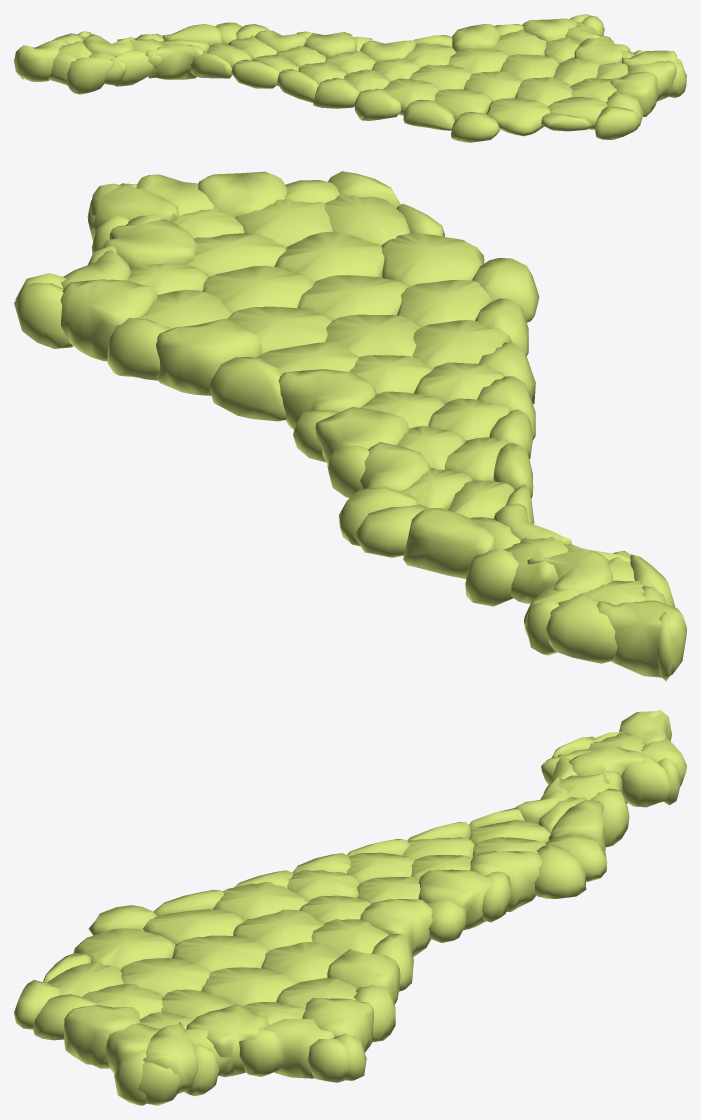
File: Islands4.004_fog.fbx
3 renders of one model, top to bottom at view 1: azimuth 30°, elevation 25°; view 2: azimuth 150°, elevation 25°; view 3: azimuth 270°, elevation 25°, orthographic. The views are drawn at different scales.
Parts seen in each view (by area): view 1: Island4.004_fog_cell.060, Island4.004_fog_cell.005, Island4.004_fog_cell.033, Island4.004_fog_cell.055, Island4.004_fog_cell.017, Island4.004_fog_cell.006, Island4.004_fog_cell.009, Island4.004_fog_cell.002, Island4.004_fog_cell.040, Island4.004_fog_cell.057, Island4.004_fog_cell.047, Island4.004_fog_cell.054 (+48 smaller); view 2: Island4.004_fog_cell.019, Island4.004_fog_cell.046, Island4.004_fog_cell.056, Island4.004_fog_cell.033, Island4.004_fog_cell.060, Island4.004_fog_cell.054, Island4.004_fog_cell.016, Island4.004_fog_cell.009, Island4.004_fog_cell.011, Island4.004_fog_cell.047, Island4.004_fog_cell.012, Island4.004_fog_cell.058 (+48 smaller); view 3: Island4.004_fog_cell.017, Island4.004_fog_cell.007, Island4.004_fog_cell.060, Island4.004_fog_cell.009, Island4.004_fog_cell.010, Island4.004_fog_cell.047, Island4.004_fog_cell.011, Island4.004_fog_cell.054, Island4.004_fog_cell.046, Island4.004_fog_cell.050, Island4.004_fog_cell.022, Island4.004_fog_cell (+51 smaller).
Boxes of the visible parts, <box> form: Island4.004_fog_cell.060: <box>486,98,550,136</box>; Island4.004_fog_cell.005: <box>146,43,203,79</box>; Island4.004_fog_cell.033: <box>16,39,68,81</box>; Island4.004_fog_cell.055: <box>67,57,113,94</box>; Island4.004_fog_cell.017: <box>610,71,658,116</box>; Island4.004_fog_cell.006: <box>403,99,454,130</box>; Island4.004_fog_cell.009: <box>464,71,522,101</box>; Island4.004_fog_cell.002: <box>595,106,641,139</box>; Island4.004_fog_cell.040: <box>451,112,500,142</box>; Island4.004_fog_cell.057: <box>354,88,401,120</box>; Island4.004_fog_cell.047: <box>500,54,559,80</box>; Island4.004_fog_cell.054: <box>515,77,572,106</box>; Island4.004_fog_cell.019: <box>156,318,261,395</box>; Island4.004_fog_cell.046: <box>60,279,157,361</box>; Island4.004_fog_cell.056: <box>403,508,495,578</box>; Island4.004_fog_cell.033: <box>596,600,686,677</box>; Island4.004_fog_cell.060: <box>381,233,484,286</box>; Island4.004_fog_cell.054: <box>274,231,384,282</box>; Island4.004_fog_cell.016: <box>209,357,286,421</box>; Island4.004_fog_cell.009: <box>297,275,409,320</box>; Island4.004_fog_cell.011: <box>278,369,376,429</box>; Island4.004_fog_cell.047: <box>202,265,313,313</box>; Island4.004_fog_cell.012: <box>545,593,617,663</box>; Island4.004_fog_cell.058: <box>412,319,511,369</box>; Island4.004_fog_cell.017: <box>64,1005,140,1068</box>; Island4.004_fog_cell.007: <box>186,1004,268,1077</box>; Island4.004_fog_cell.060: <box>73,928,175,970</box>; Island4.004_fog_cell.009: <box>172,935,269,972</box>; Island4.004_fog_cell.010: <box>418,869,491,930</box>; Island4.004_fog_cell.047: <box>201,967,296,1006</box>; Island4.004_fog_cell.011: <box>360,899,432,957</box>; Island4.004_fog_cell.054: <box>120,958,210,997</box>; Island4.004_fog_cell.046: <box>302,997,373,1052</box>; Island4.004_fog_cell.050: <box>233,909,323,950</box>; Island4.004_fog_cell.022: <box>470,851,541,911</box>; Island4.004_fog_cell: <box>143,909,243,944</box>.
Size of the model in its own units: 136 by 9.97 by 109.
